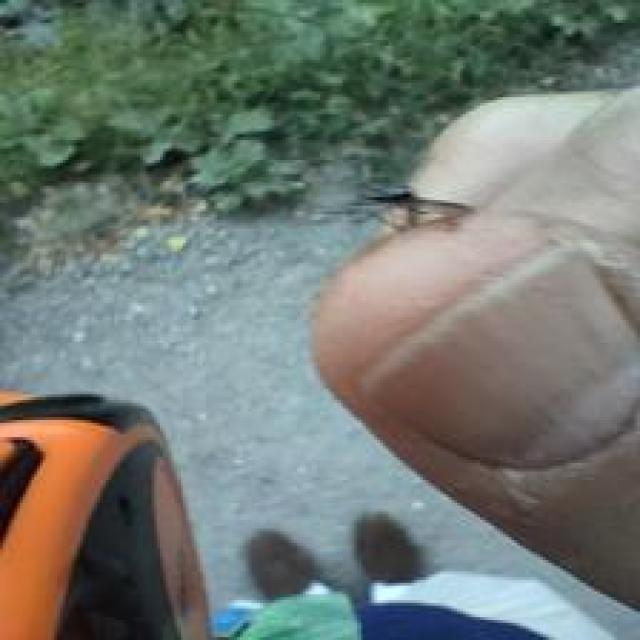Aedes albopictus: (0, 380, 220, 640)
